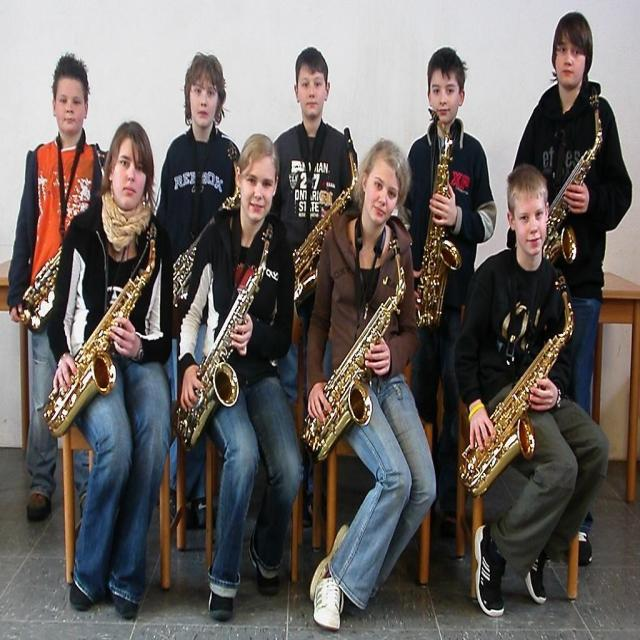saxophone: (459, 272, 577, 501), (39, 222, 160, 443), (300, 238, 410, 461), (172, 222, 276, 451), (285, 122, 361, 304), (170, 138, 243, 306), (542, 88, 606, 260), (416, 107, 464, 327), (16, 242, 61, 336)
